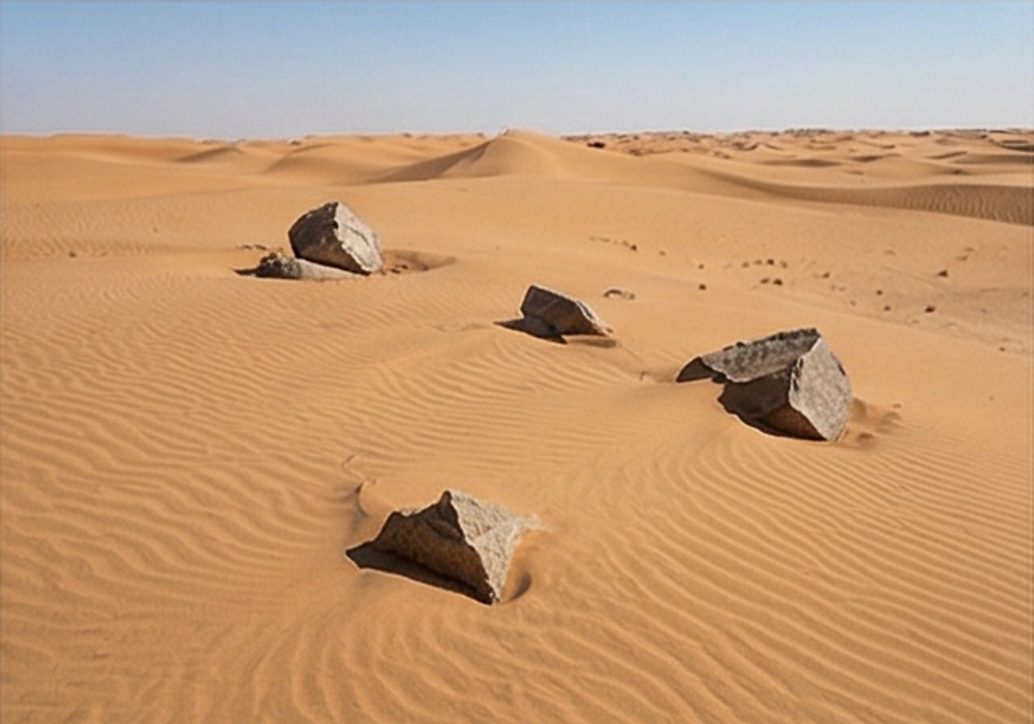rocks: (677, 328, 852, 439), (365, 491, 532, 602), (257, 202, 383, 279), (512, 285, 610, 341)
